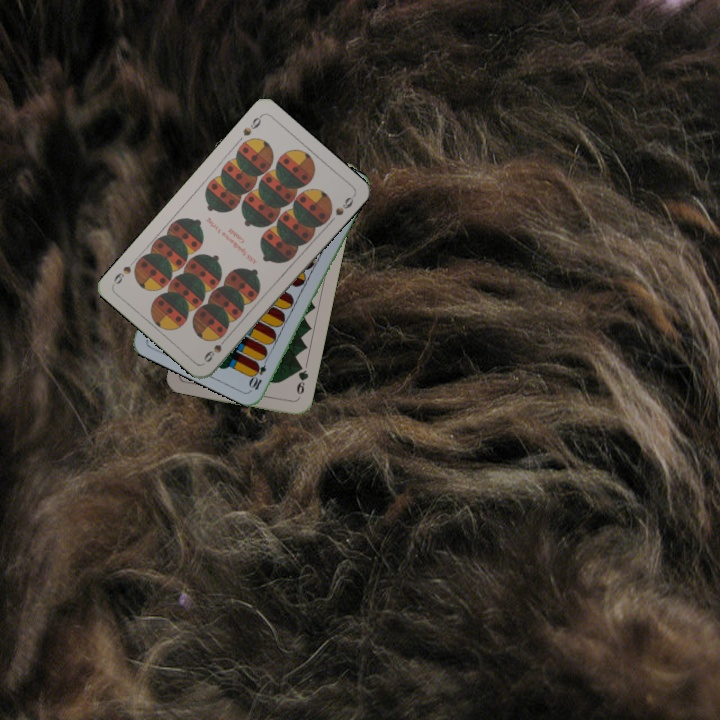E10: (246, 353, 271, 392)
G9: (292, 360, 311, 402)
S9: (200, 332, 231, 365), (239, 111, 265, 139)
